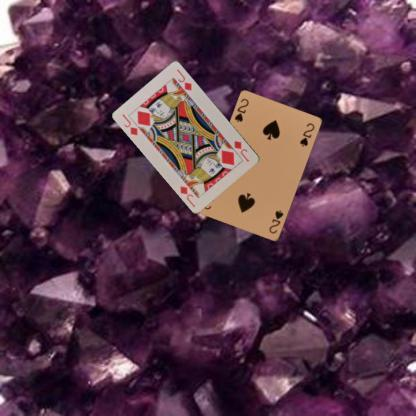2s: (232, 96, 250, 124), (266, 208, 284, 235)
Jd: (120, 112, 139, 136), (232, 138, 250, 163)
